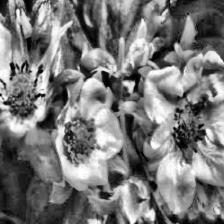Blossom Blight: (0, 57, 49, 129), (166, 92, 211, 168)
